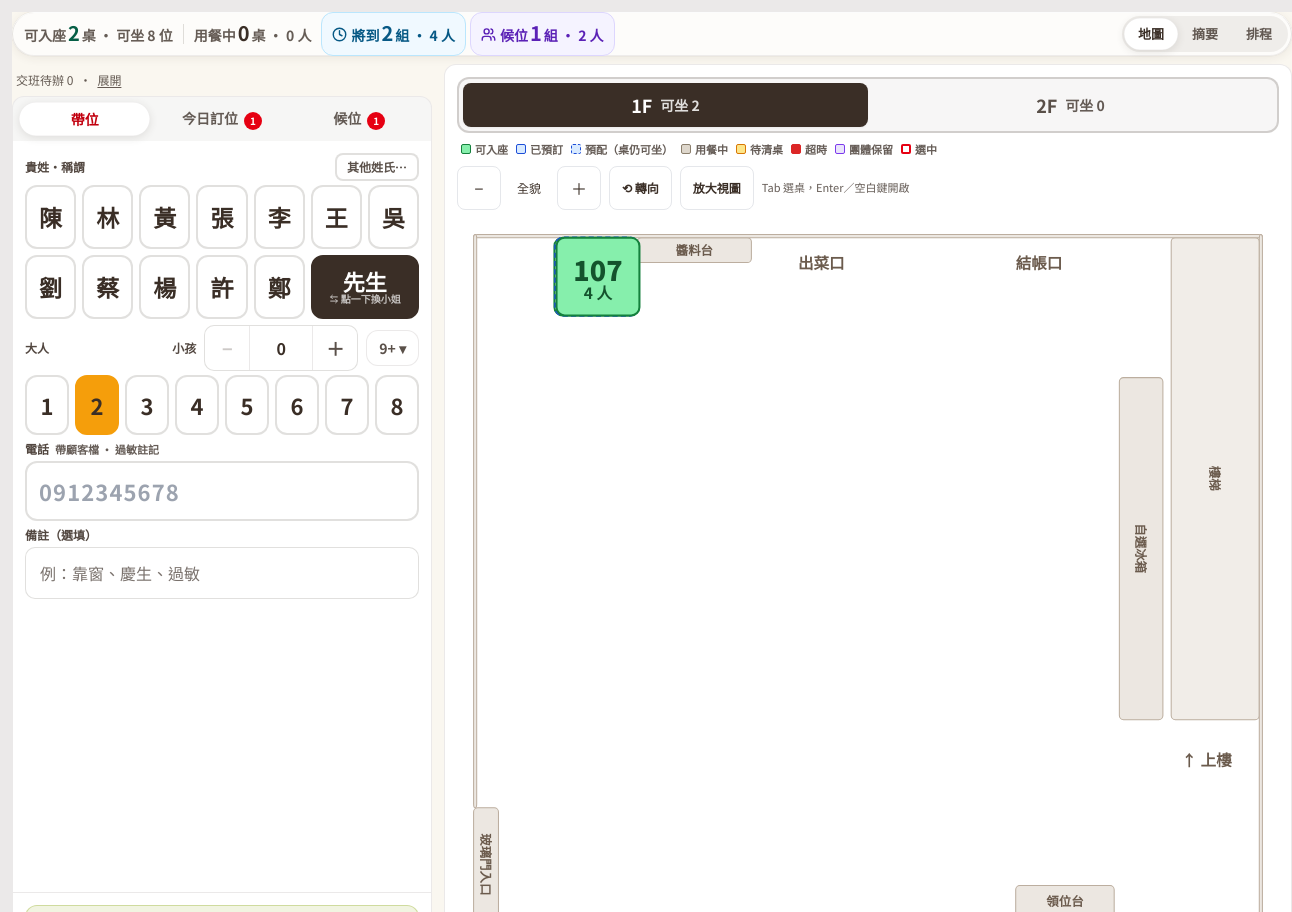
現場頁 × 角色：kitchen 無任何寫入入口、其他三角色入口不變 › manager：帶位籤、確認入座、今日訂位動作、候位取號／叫號都在
This screenshot has width=1292, height=912.
Expected: the button "帶位" is shown, [17,97,152,141]
Click the button "今日訂位 1": coordinates (222, 119) [154,97,290,141]
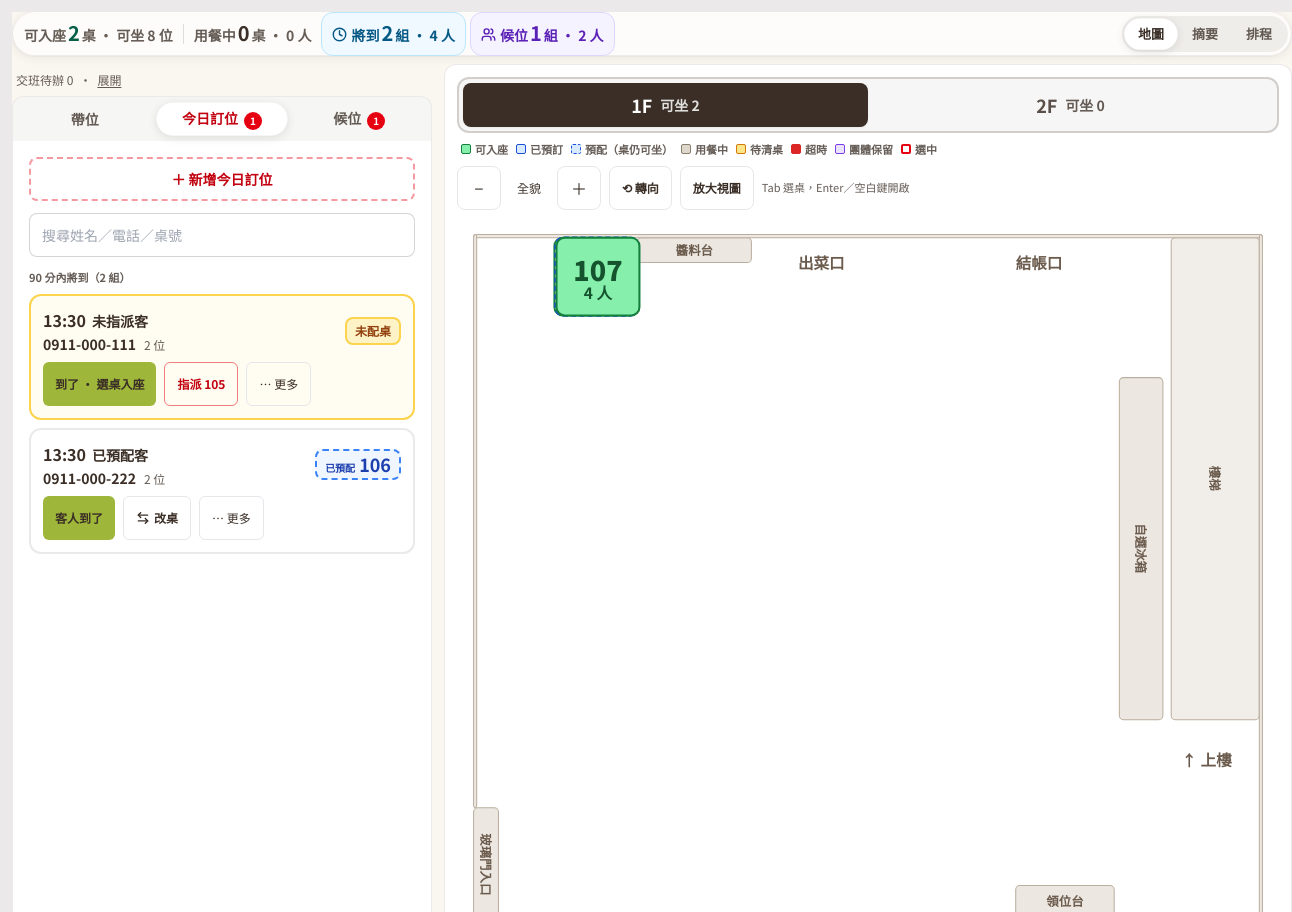
Click the button "候位 1 組 · 2 人": coordinates (542, 34) [470,12,615,56]
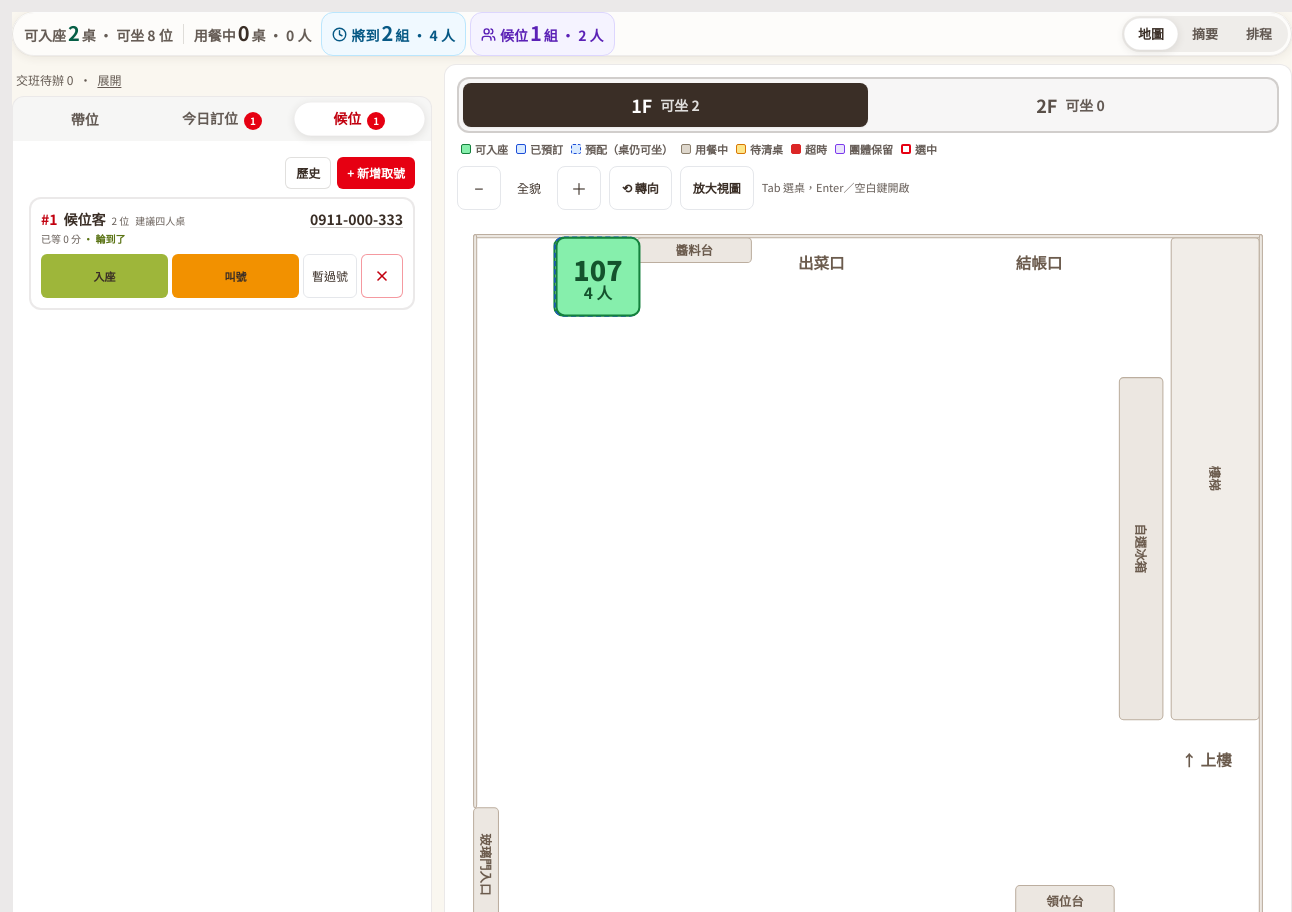
Result: the button "+ 新增取號" is shown at [337,157,415,189]
